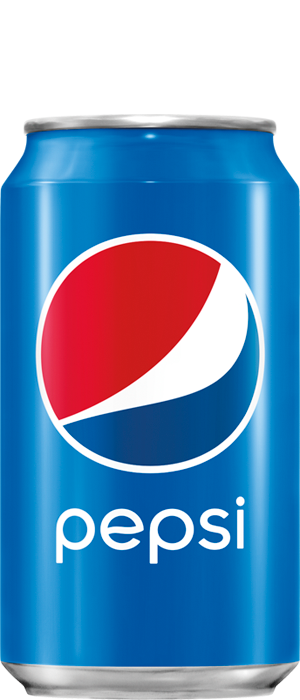pepsi: (32, 231, 265, 472)
